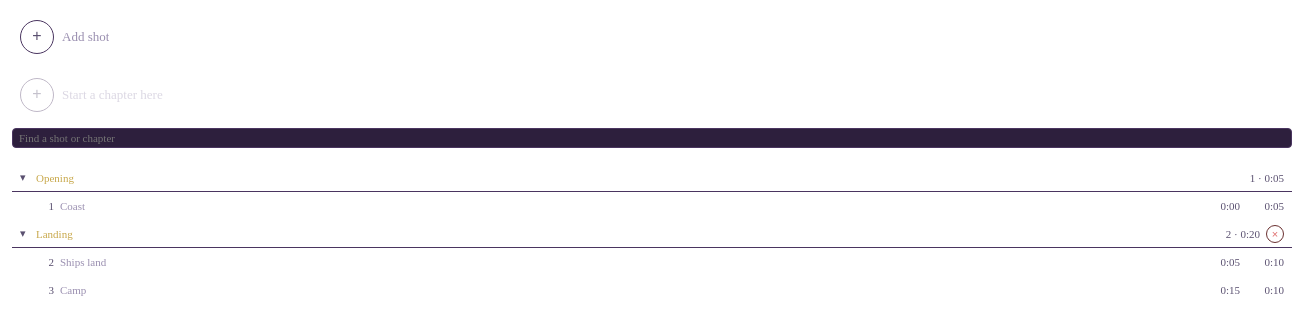
Scenario: the shots tab lists shots by chapter; picking one selects it
Press the mouse on the element showing "3 Camp 0:15 0:10" at (51,290), box left=48, top=284, right=1284, bottom=296
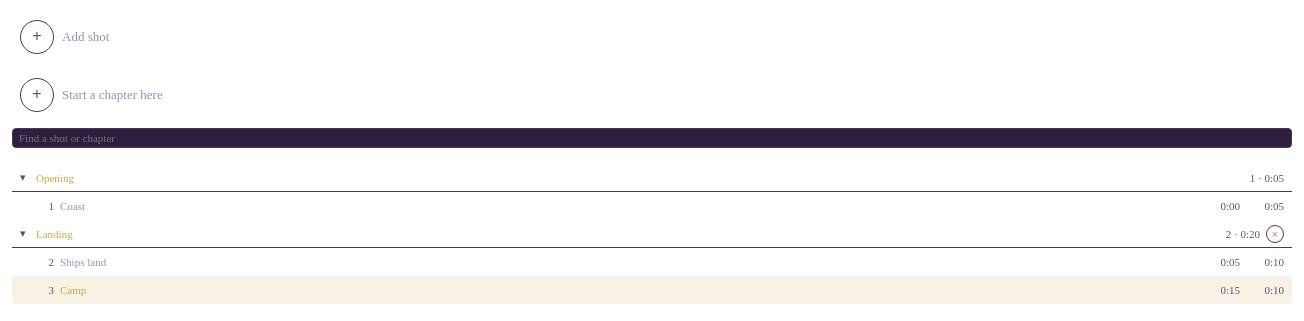
Click the element showing "▾ Landing 2 · 0:20 ×" at (652,234), box left=12, top=220, right=1292, bottom=248
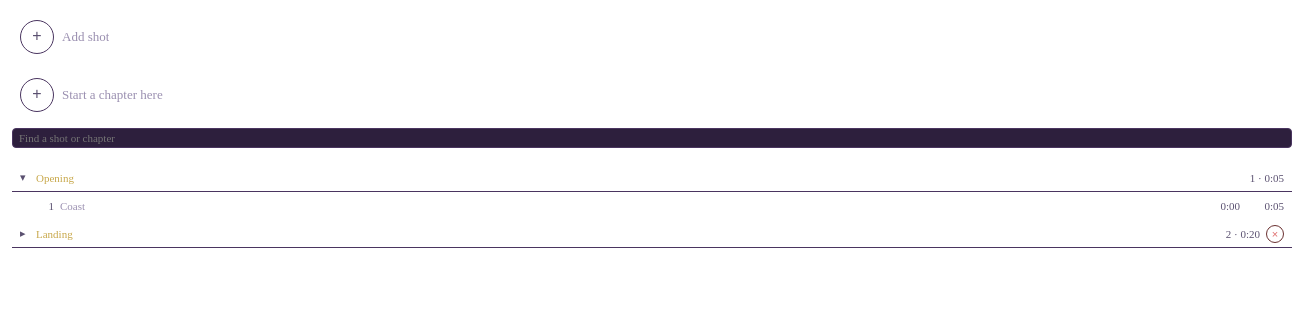
Check: the text "Ships land" is gone
